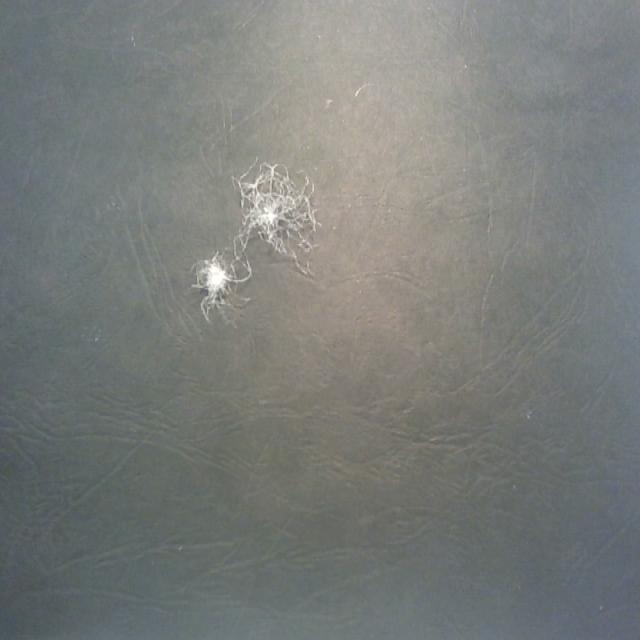feather: (239, 154, 316, 258), (195, 254, 247, 318)
